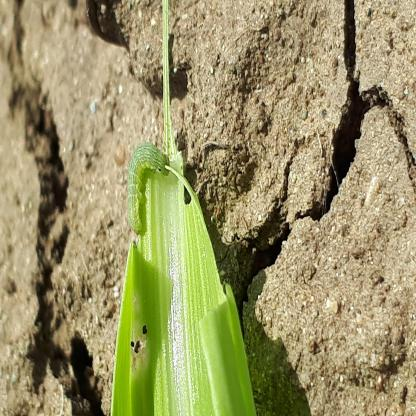armyworm: (100, 220, 152, 305)
